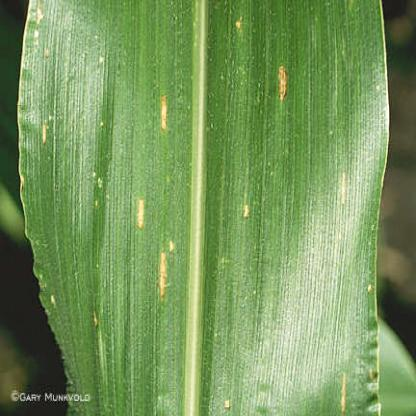corn gray leaf spot: (13, 1, 396, 415)
